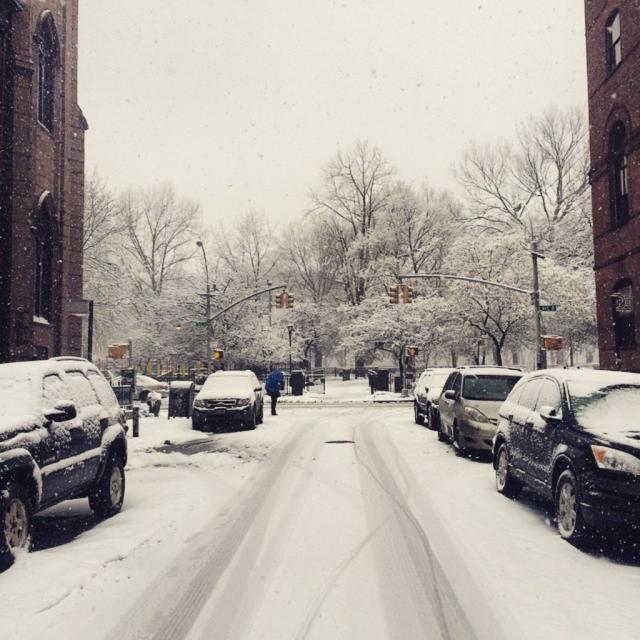car: (191, 365, 265, 432)
